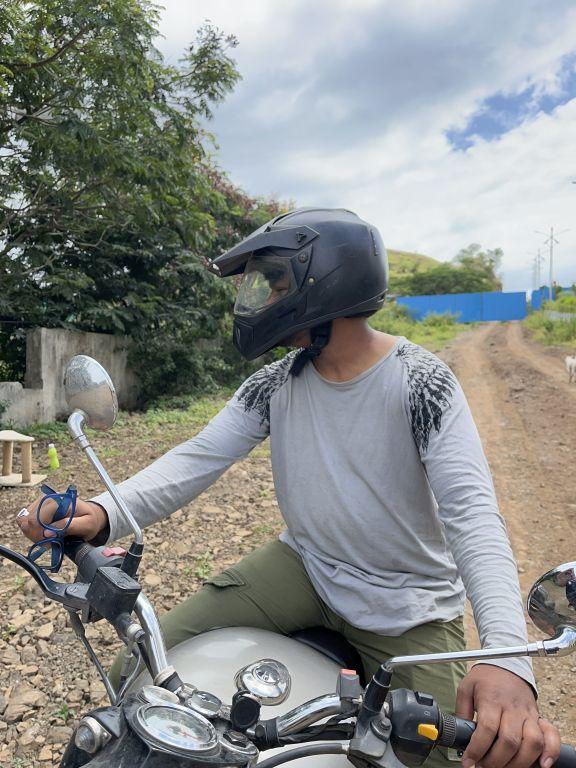helmet: (197, 192, 398, 382)
